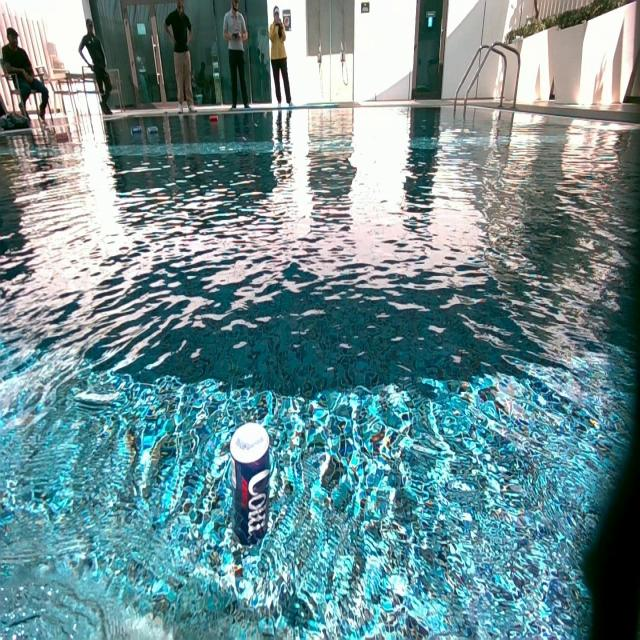Cans: (226, 421, 275, 553), (148, 127, 158, 138), (132, 126, 141, 136), (210, 115, 218, 124), (262, 112, 268, 118)
